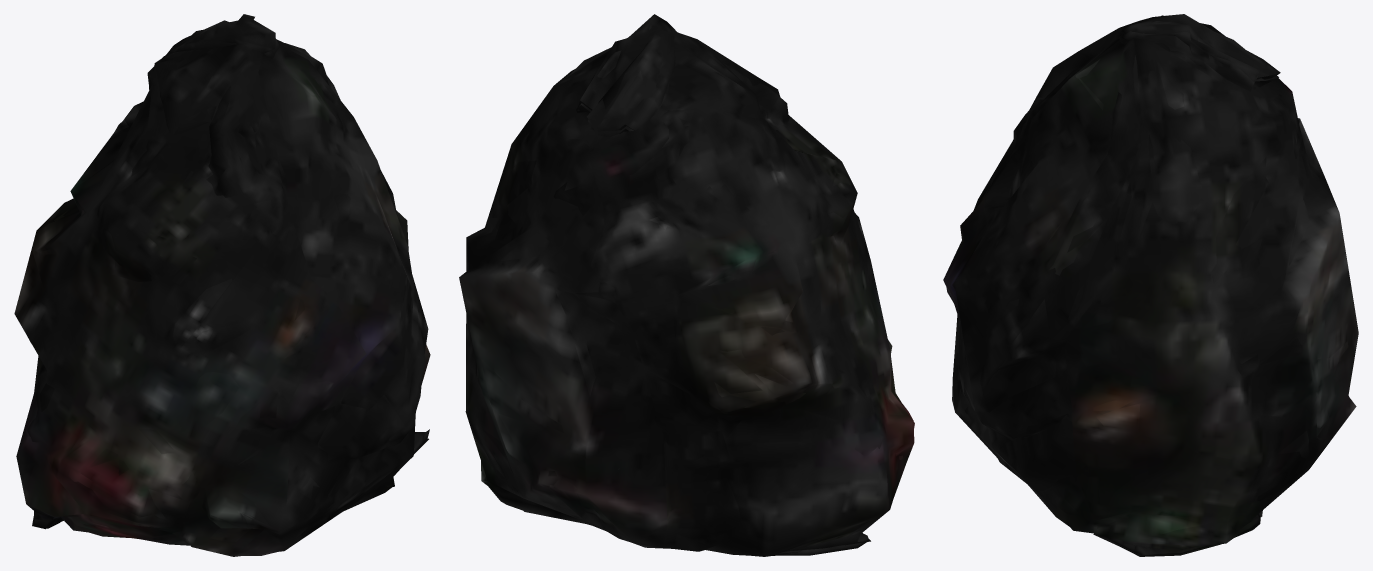
File: ph-trashbag.glb
3 views of the same model, side by side, from view 1: azimuth 30°, elevation 25°; view 2: azimuth 150°, elevation 25°; view 3: azimuth 270°, elevation 25° (orthographic). The views are drawn at different scales.
Parts seen in each view (by area): view 1: trashbag (×2); view 2: trashbag (×2); view 3: trashbag (×2).
Part boxes in pixels (x1,y1,x2,y2): trashbag (×2): [14, 14, 430, 556]; trashbag (×2): [459, 14, 914, 556]; trashbag (×2): [943, 14, 1358, 556].
Size of the model in its own units: 0.6429 by 0.7 by 0.57.
Materials: 1 (1 with a texture image).
